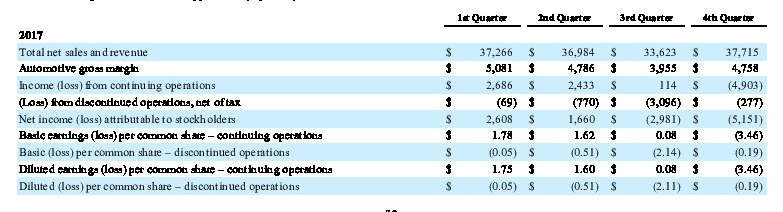table: (0, 0, 783, 212)
